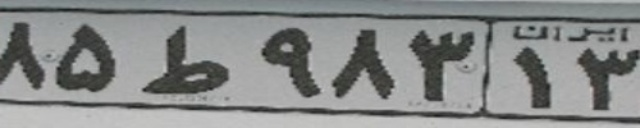1: (509, 45, 555, 109)
3: (405, 29, 474, 100), (576, 45, 638, 110)
5: (54, 23, 118, 91)
8: (331, 28, 397, 98), (0, 21, 46, 89)
9: (260, 27, 321, 96)
taa: (142, 25, 231, 93)
